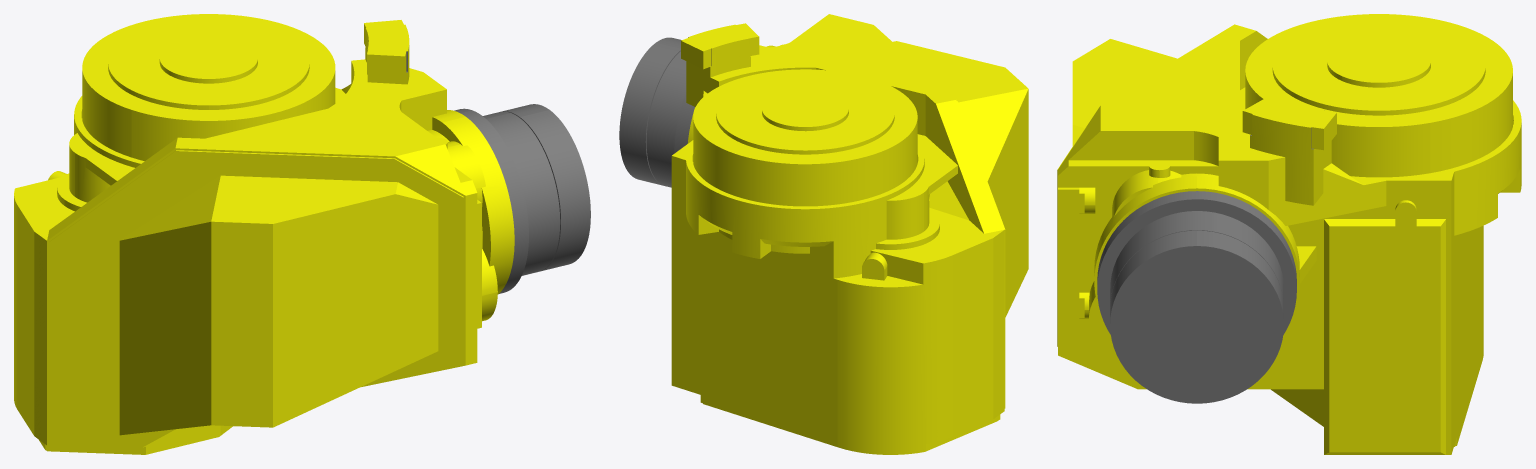
3 renders of one model, left to right at view 1: azimuth 30°, elevation 25°; view 2: azimuth 150°, elevation 25°; view 3: azimuth 270°, elevation 25°, orthographic. The views are drawn at different scales.
Parts seen in each view (by area): view 1: Mesh_0; view 2: Mesh_0; view 3: Mesh_0.
Boxes of the visible parts, bbox=[...] form: Mesh_0: bbox=[14, 14, 590, 454]; Mesh_0: bbox=[619, 14, 1028, 454]; Mesh_0: bbox=[1057, 14, 1521, 454].
Bounding box in the file's own units: 0.5107 × 0.374 × 0.4335.
